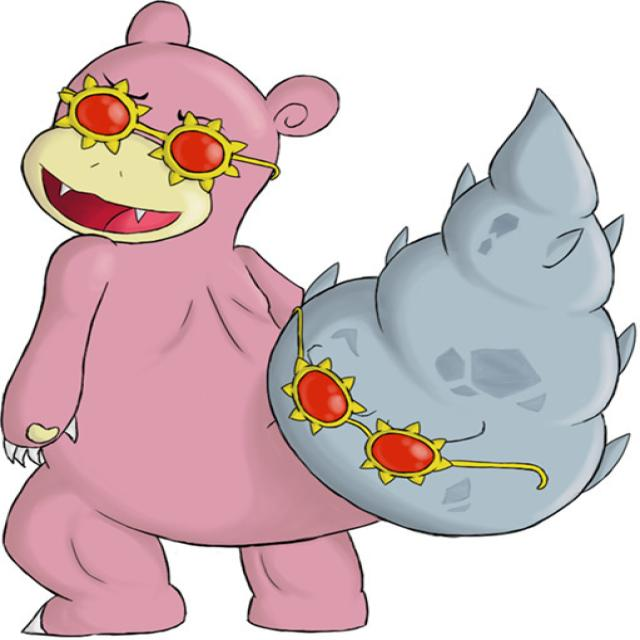Slowbro: (12, 33, 424, 633)
